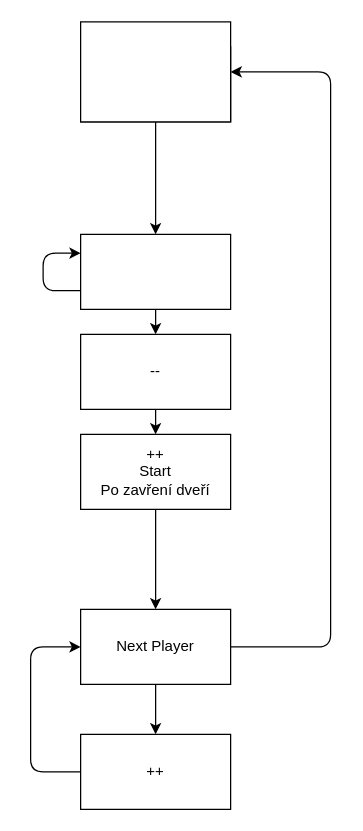
Some shapes in this 363 by 831 pixel diagram are drawn without their labels. The centre of each missing label's shape, as x and y in pixels:
END oboje po otevření dveří do šopu --: the point at 155,71
shopNextPlayer Hned ++: the point at 155,271
